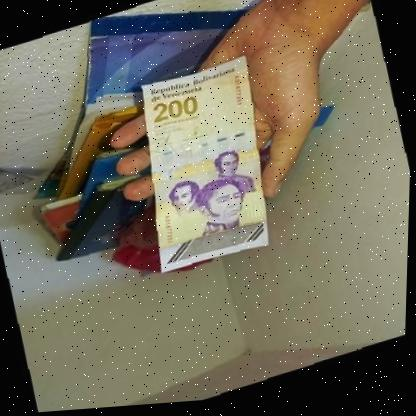two_hundred-front-vef: (120, 55, 290, 284)
